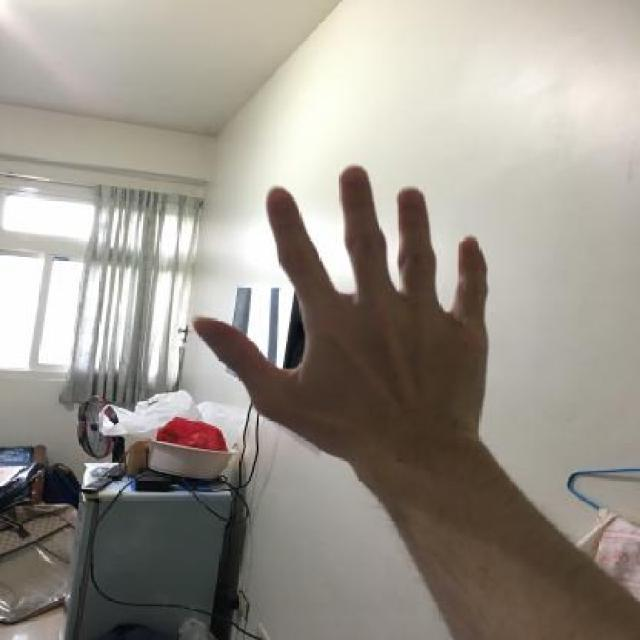hand: (187, 151, 504, 498)
